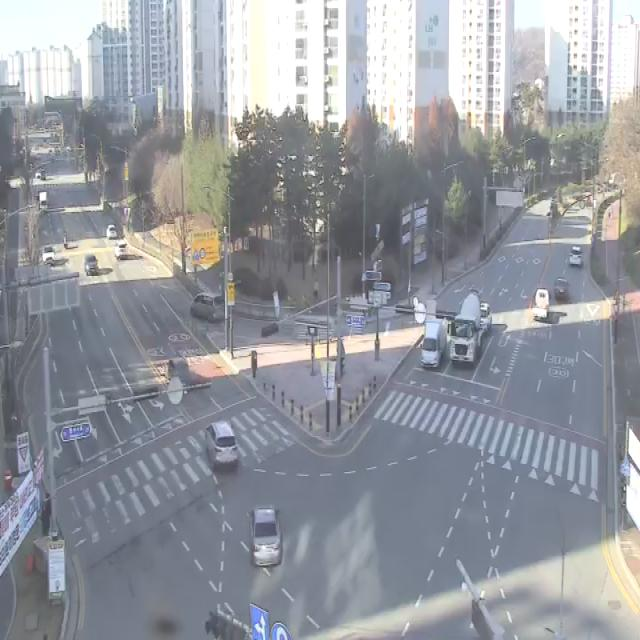Car: (248, 505, 282, 569), (205, 422, 239, 470), (189, 292, 227, 325), (163, 357, 191, 383), (479, 302, 492, 334), (84, 254, 100, 278), (554, 278, 569, 300), (42, 245, 56, 266), (570, 246, 584, 265), (115, 242, 129, 259), (106, 225, 118, 240)
Motorcycle: (58, 222, 74, 254)
Truck: (448, 288, 486, 368), (422, 317, 448, 369), (534, 290, 551, 319)
